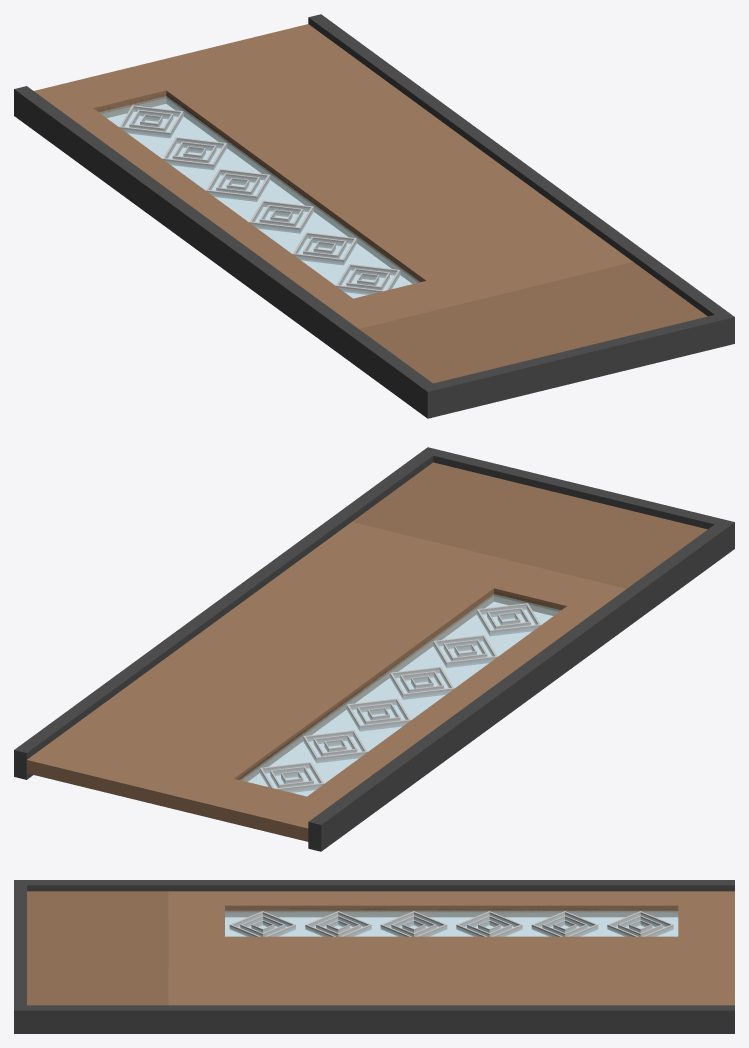
Rendered from Parametric_Door_X_1100mm.obj.
The picture shows the model from 3 angles, top to bottom: view 1: azimuth 30°, elevation 25°; view 2: azimuth 150°, elevation 25°; view 3: azimuth 270°, elevation 25°; orthographic projection. The views are drawn at different scales.
Parts seen in each view (by area): view 1: DOOR_LEAF, DOOR_FRAME, DOOR_TRANSOM, DOOR_GLASS, DOOR_DIAMONDS, DOOR_TRIM; view 2: DOOR_LEAF, DOOR_FRAME, DOOR_TRANSOM, DOOR_GLASS, DOOR_DIAMONDS, DOOR_TRIM; view 3: DOOR_LEAF, DOOR_FRAME, DOOR_TRANSOM, DOOR_GLASS, DOOR_DIAMONDS, DOOR_TRIM.
Part boxes in pixels (x1=…): DOOR_LEAF: x1=34, y1=24, x2=632, y2=328; DOOR_FRAME: x1=14, y1=14, x2=734, y2=418; DOOR_TRANSOM: x1=359, y1=262, x2=707, y2=383; DOOR_GLASS: x1=99, y1=96, x2=419, y2=298; DOOR_DIAMONDS: x1=119, y1=105, x2=400, y2=294; DOOR_TRIM: x1=99, y1=93, x2=360, y2=235; DOOR_LEAF: x1=26, y1=522, x2=625, y2=841; DOOR_FRAME: x1=14, y1=447, x2=734, y2=851; DOOR_TRANSOM: x1=352, y1=462, x2=707, y2=588; DOOR_GLASS: x1=240, y1=594, x2=560, y2=796; DOOR_DIAMONDS: x1=260, y1=603, x2=540, y2=792; DOOR_TRIM: x1=237, y1=591, x2=562, y2=780; DOOR_LEAF: x1=168, y1=891, x2=734, y2=1005; DOOR_FRAME: x1=14, y1=880, x2=734, y2=1033; DOOR_TRANSOM: x1=27, y1=891, x2=168, y2=1005; DOOR_GLASS: x1=225, y1=910, x2=678, y2=936; DOOR_DIAMONDS: x1=229, y1=911, x2=673, y2=936; DOOR_TRIM: x1=225, y1=908, x2=677, y2=914.
Bounding box in the file's own units: 1200 × 100 × 2800.
